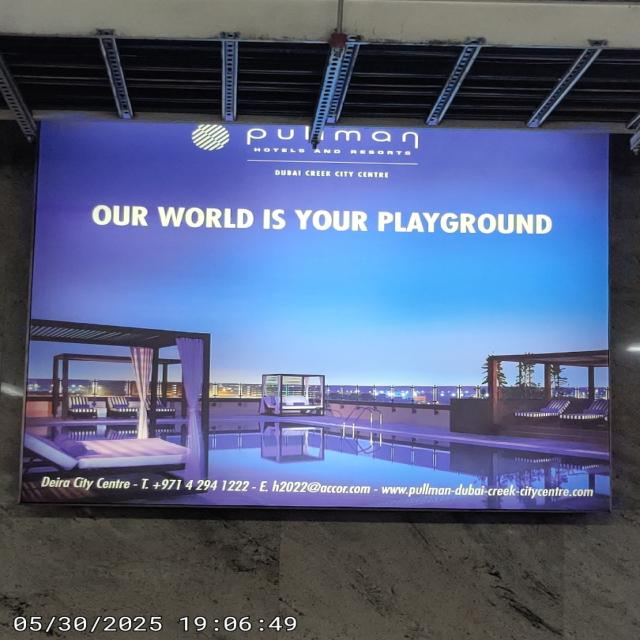poster: (20, 119, 613, 508)
